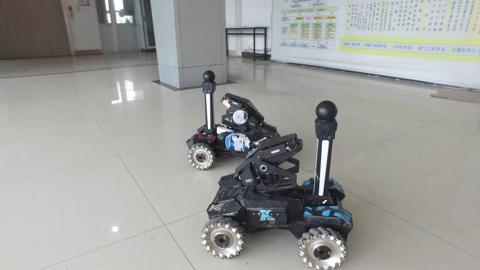chariot: (197, 95, 366, 270), (174, 66, 287, 171)
